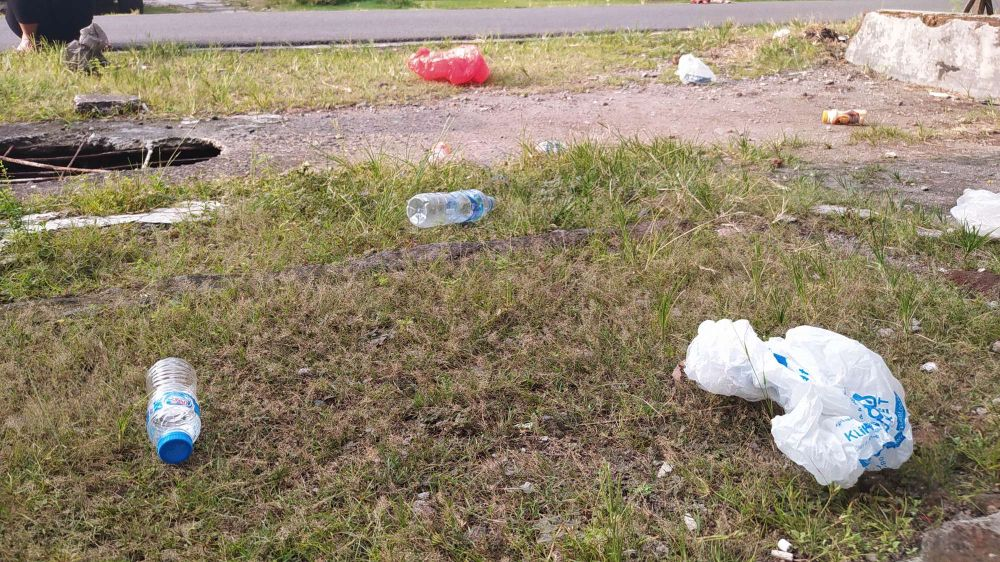botol: (137, 352, 215, 472), (401, 174, 506, 229), (817, 98, 875, 136)
plastik: (691, 300, 917, 486), (399, 40, 507, 89), (942, 177, 1000, 250), (666, 44, 719, 94)
